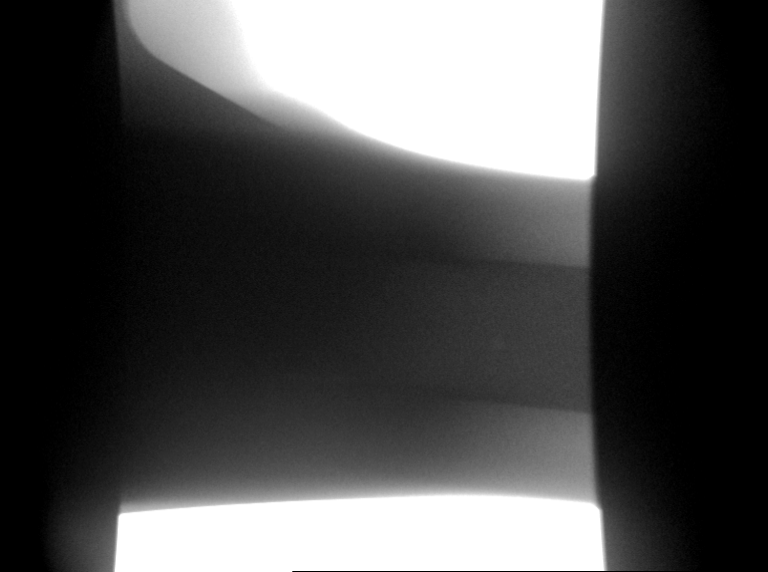defect: (485, 329, 512, 353)
